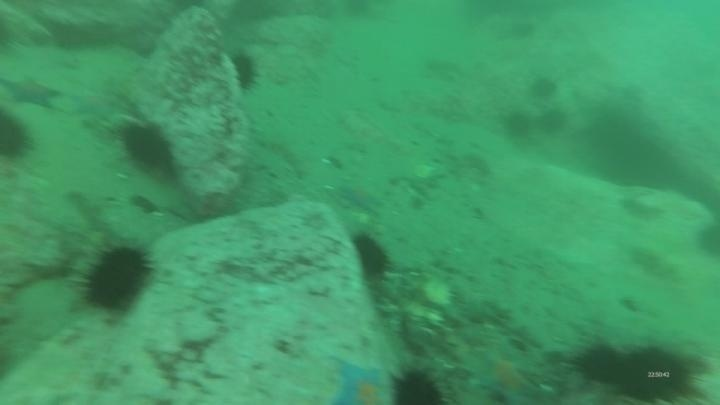echinus: (77, 242, 155, 315), (613, 343, 699, 403), (118, 119, 174, 172), (574, 341, 627, 387), (388, 366, 446, 404), (350, 232, 393, 283), (0, 108, 35, 163), (227, 49, 261, 94), (694, 219, 720, 262), (501, 109, 534, 142), (537, 106, 569, 137), (527, 74, 560, 102)
holothurian: (627, 243, 683, 283)
starfish: (471, 348, 542, 404), (329, 359, 393, 405), (2, 73, 62, 112), (67, 88, 119, 123), (336, 181, 385, 213)
